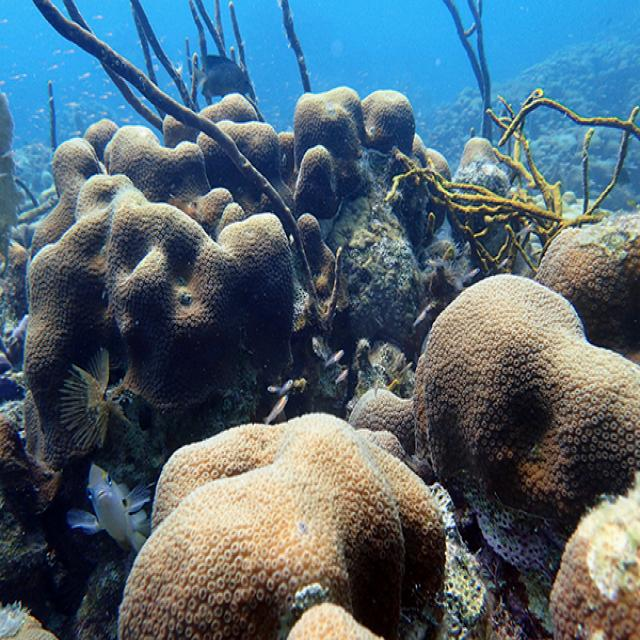Coral: (0, 87, 452, 534), (118, 409, 445, 640), (411, 273, 640, 587), (534, 207, 640, 356), (548, 471, 640, 640), (447, 136, 511, 286), (348, 388, 416, 457)
